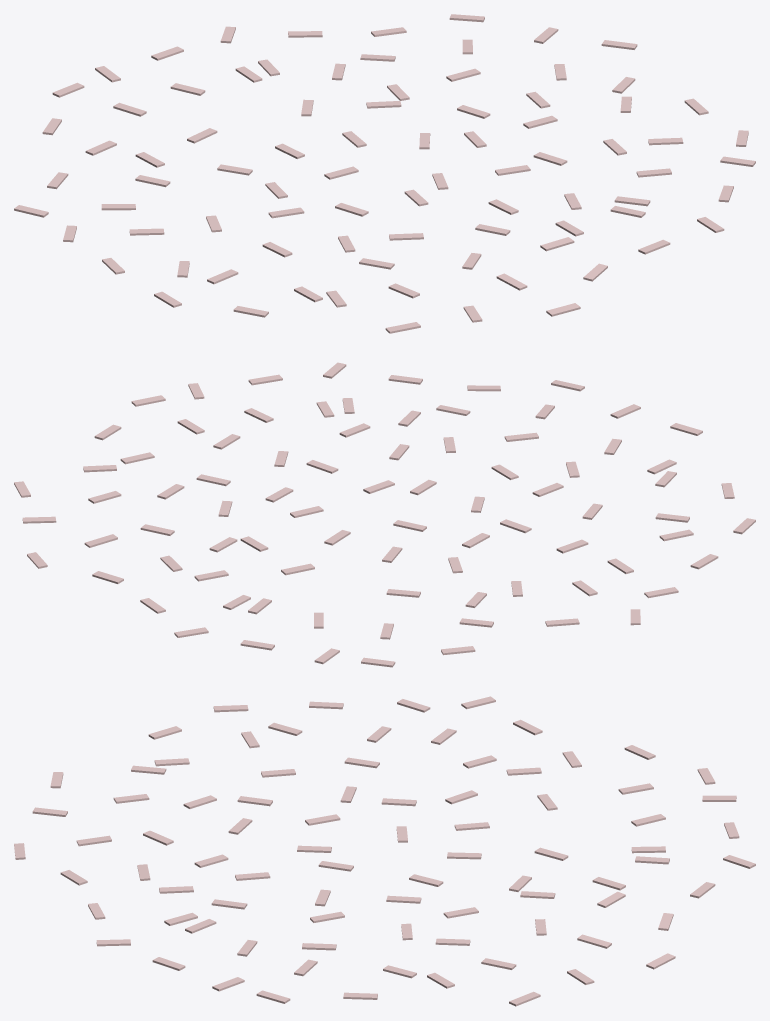
File: chicken.glb
3 views of the same model, one above another, from view 1: azimuth 30°, elevation 25°; view 2: azimuth 150°, elevation 25°; view 3: azimuth 270°, elevation 25° (orthographic). The views are drawn at different scales.
Parts seen in each view (by area): view 1: kip24; view 2: kip24; view 3: kip24.
Boxes of the visible parts, <box> form: kip24: <box>14,14,755,333</box>; kip24: <box>14,362,755,667</box>; kip24: <box>14,696,755,1006</box>.
Bounding box in the file's own units: 0.3373 × 0.00447 × 0.3432.
